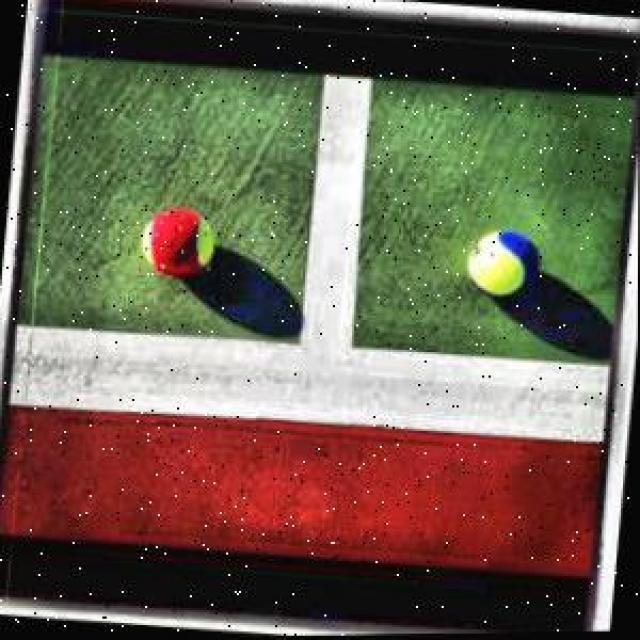tennis-ball: (140, 206, 218, 276), (463, 233, 540, 302)
